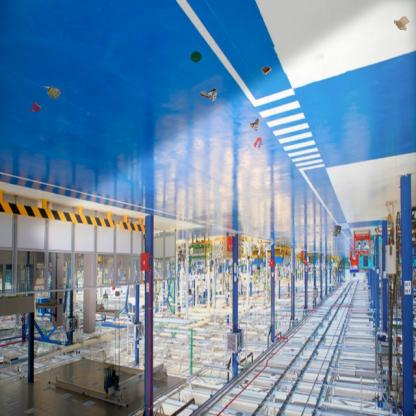dirty: (198, 86, 220, 104), (392, 14, 412, 33), (42, 84, 61, 102), (188, 50, 204, 64), (330, 223, 344, 239), (248, 116, 260, 132), (260, 65, 272, 75)
liquid: (252, 137, 263, 150), (28, 101, 41, 112)
